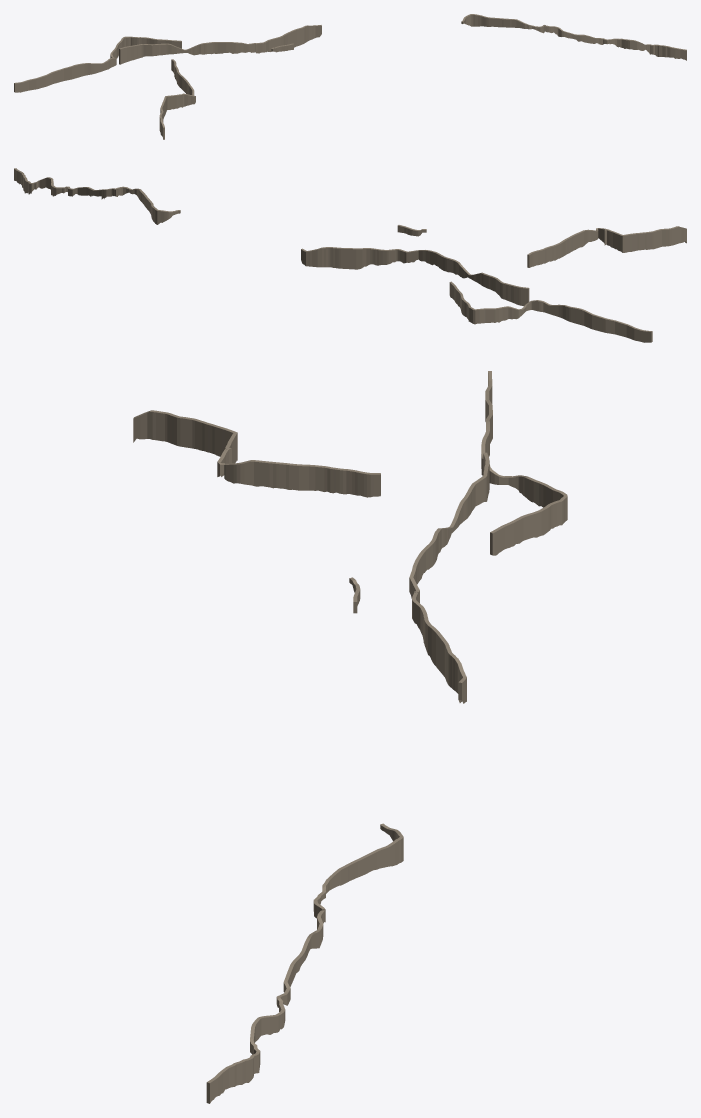
File: muros_cerro.glb
3 views of the same model, one above another, from view 1: azimuth 30°, elevation 25°; view 2: azimuth 150°, elevation 25°; view 3: azimuth 270°, elevation 25° (orthographic). The views are drawn at different scales.
Visible parts, largest first — view 1: MQN-CERRO-MURO-02, MQN-CERRO-MURO-05, MQN-CERRO-MURO-01, MQN-CERRO-MURO-03; view 2: MQN-CERRO-MURO-02, MQN-CERRO-MURO-01, MQN-CERRO-MURO-03, MQN-CERRO-MURO-05; view 3: MQN-CERRO-MURO-03, MQN-CERRO-MURO-05, MQN-CERRO-MURO-02, MQN-CERRO-MURO-01.
Boxes of the visible parts, <box> form: MQN-CERRO-MURO-02: <box>119,25,321,64</box>; MQN-CERRO-MURO-05: <box>461,14,686,60</box>; MQN-CERRO-MURO-01: <box>14,36,181,92</box>; MQN-CERRO-MURO-03: <box>159,59,195,139</box>; MQN-CERRO-MURO-02: <box>301,247,529,306</box>; MQN-CERRO-MURO-01: <box>449,281,652,342</box>; MQN-CERRO-MURO-03: <box>527,226,686,267</box>; MQN-CERRO-MURO-05: <box>14,168,180,224</box>; MQN-CERRO-MURO-03: <box>133,410,380,497</box>; MQN-CERRO-MURO-05: <box>206,823,403,1103</box>; MQN-CERRO-MURO-02: <box>409,452,489,703</box>; MQN-CERRO-MURO-01: <box>481,371,567,555</box>.
Size of the model in its own units: 427 by 57.32 by 133.
